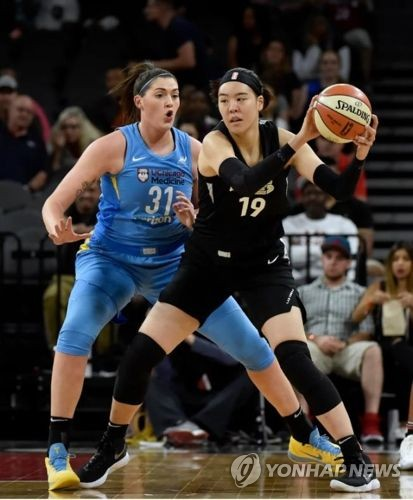ball: (310, 74, 377, 146)
defense: (41, 57, 237, 498)
stand: (173, 60, 393, 495)
